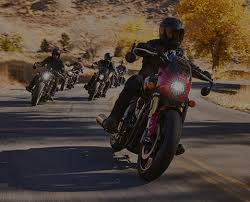motorcycle: (105, 43, 216, 182), (25, 63, 67, 105), (84, 65, 117, 98), (63, 67, 83, 93), (112, 67, 129, 86)
